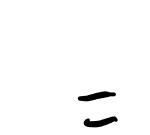eqv: (78, 91, 119, 128)
